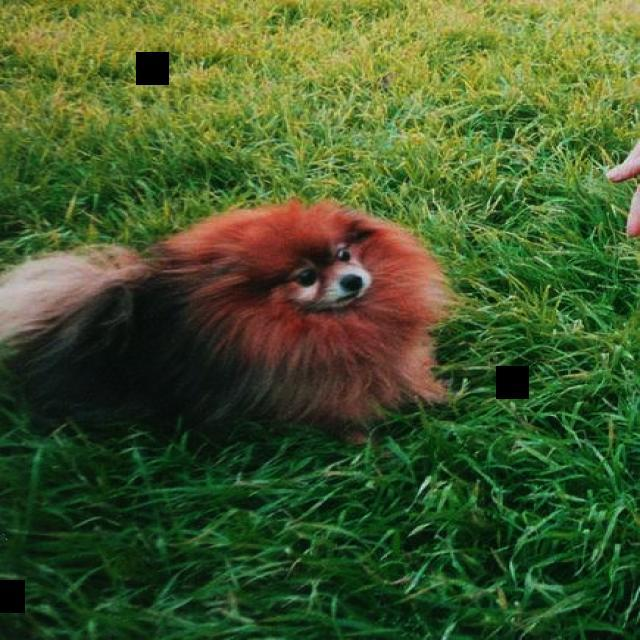adult_dog: (0, 196, 452, 445)
